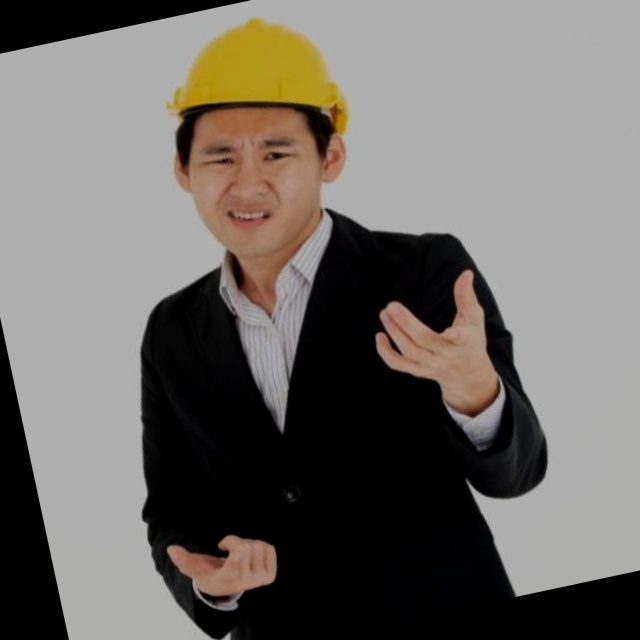Con_Casco: (141, 4, 376, 271)
Sin_Chaleco: (122, 206, 541, 640)
